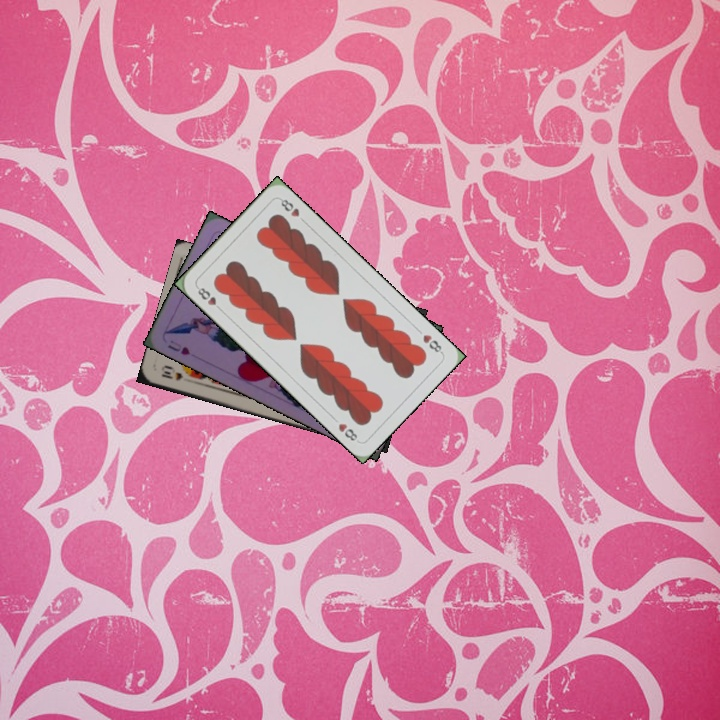H8: (193, 282, 225, 314), (419, 330, 446, 356)
HU: (163, 336, 193, 358)
S10: (158, 366, 185, 383)
